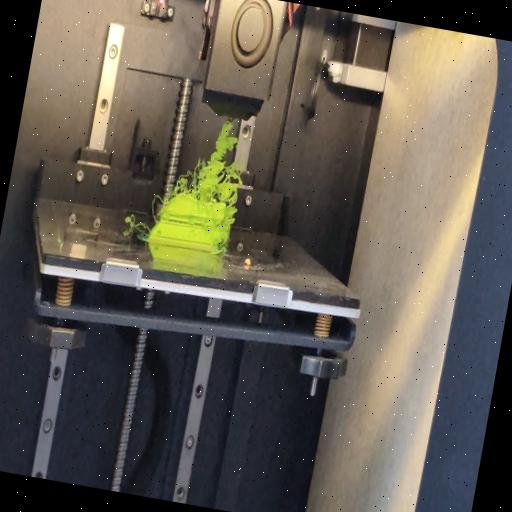spaghetti: (174, 117, 249, 210), (216, 210, 238, 261), (124, 211, 148, 236), (148, 191, 162, 221)
